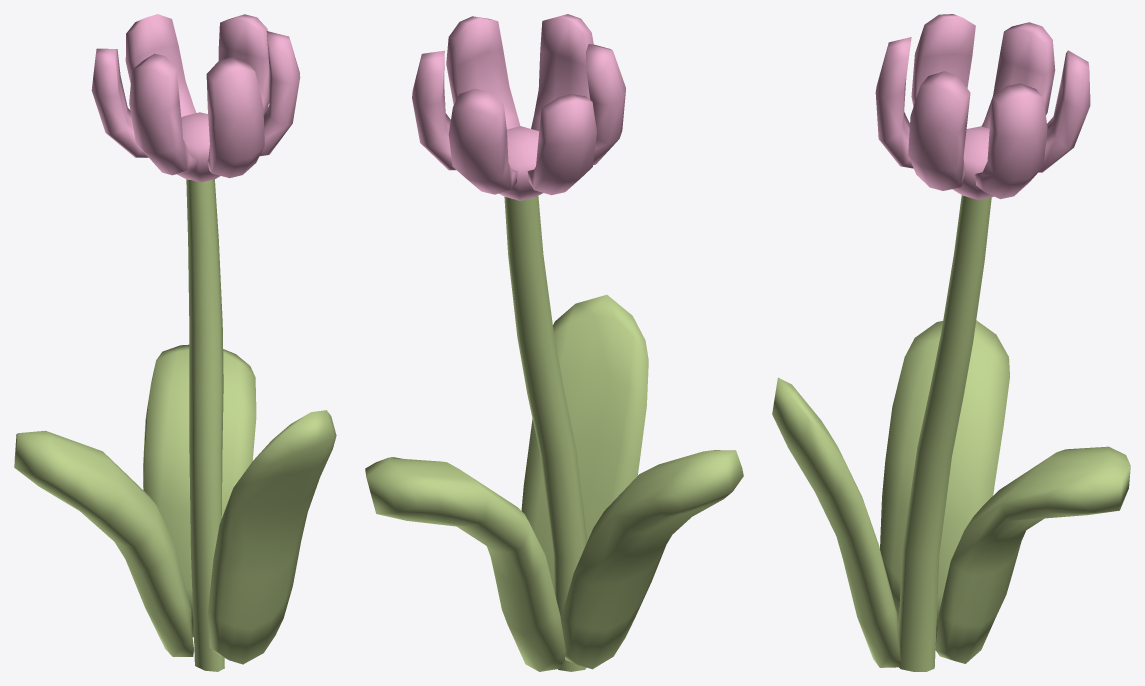
File: Flower_15.fbx
3 views of the same model, side by side, from view 1: azimuth 30°, elevation 25°; view 2: azimuth 150°, elevation 25°; view 3: azimuth 270°, elevation 25° (orthographic). The views are drawn at different scales.
Visible parts, largest first — view 1: polySurface637; view 2: polySurface637; view 3: polySurface637.
Boxes of the visible parts, x1,y1,x2,y2 form: polySurface637: (14, 14, 336, 671); polySurface637: (365, 14, 743, 671); polySurface637: (772, 14, 1130, 671).
Bounding box in the file's own units: 28.85 × 58.13 × 29.87.
